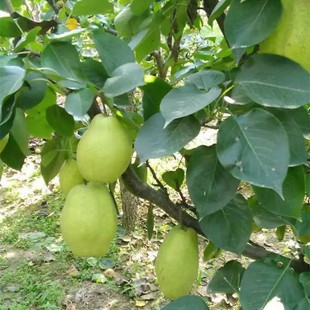pear: (61, 183, 118, 257), (75, 112, 131, 183), (155, 225, 199, 298), (59, 156, 85, 200)
